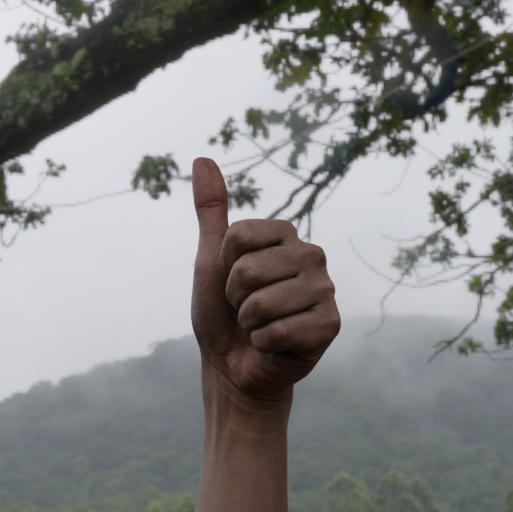thumbs-up: (190, 137, 346, 396)
